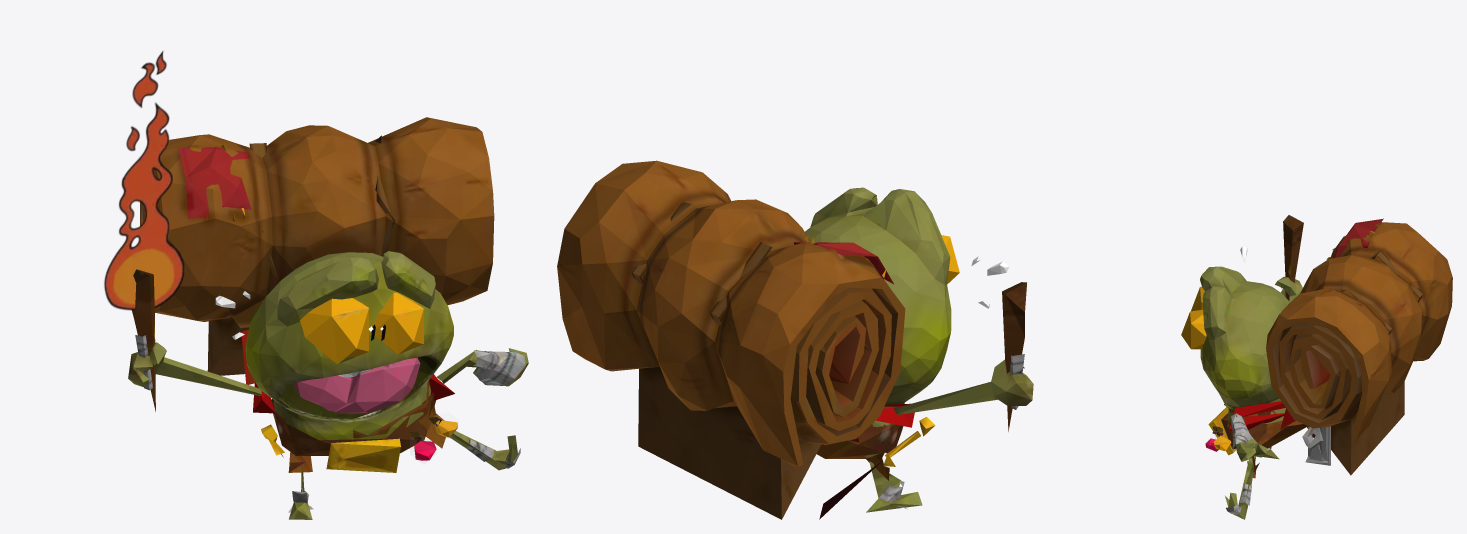
Rendered from grog.glb.
3 views of the same model, side by side, from view 1: azimuth 30°, elevation 25°; view 2: azimuth 150°, elevation 25°; view 3: azimuth 270°, elevation 25° (orthographic). The views are drawn at different scales.
Parts seen in each view (by area): view 1: Plane_20, Head_001_32, Flame_0, Tongue_001_34, Cube_003_45, Plane_009_18, Arm_R3_2_001_28, Cube_008_46, Cube_004_14, Belt_001_29, Cube_007_48, Circle_003_42 (+5 smaller); view 2: Plane_20, Head_001_32, Cube_004_14, Arm_R3_2_001_28, Circle_003_42, Head_002_33, Plane_002_16, Circle_002_41, Belt_001_29, Plane_009_18; view 3: Plane_20, Head_001_32, Cube_004_14, Circle_003_42, Torus_007_25, Head_002_33, Cube_008_46, Plane_009_18, Cube_002_44, Arm_L_27, Belt_001_29, Glove_L_31 (+4 smaller).
Boxes of the visible parts, box(x1,y1,x2,y2) form: Plane_20: box(140, 117, 494, 321); Head_001_32: box(245, 251, 453, 440); Flame_0: box(104, 50, 184, 310); Tongue_001_34: box(293, 357, 420, 413); Cube_003_45: box(300, 298, 368, 364); Plane_009_18: box(178, 147, 251, 218); Arm_R3_2_001_28: box(128, 342, 261, 395); Cube_008_46: box(371, 292, 423, 354); Cube_004_14: box(207, 300, 263, 375); Belt_001_29: box(271, 386, 436, 455); Cube_007_48: box(326, 438, 400, 472); Circle_003_42: box(132, 269, 155, 411); Plane_20: box(557, 160, 905, 466); Head_001_32: box(805, 187, 951, 426); Cube_004_14: box(638, 366, 821, 519); Arm_R3_2_001_28: box(893, 359, 1033, 414); Circle_003_42: box(1002, 282, 1026, 431); Head_002_33: box(816, 440, 889, 480); Plane_002_16: box(631, 202, 772, 325); Circle_002_41: box(866, 461, 922, 512); Belt_001_29: box(848, 423, 903, 453); Plane_009_18: box(793, 242, 894, 284); Plane_20: box(1266, 222, 1452, 439); Head_001_32: box(1200, 266, 1289, 427); Cube_004_14: box(1331, 381, 1404, 475); Circle_003_42: box(1283, 215, 1303, 300); Torus_007_25: box(1229, 401, 1285, 430); Head_002_33: box(1227, 410, 1307, 478); Cube_008_46: box(1181, 309, 1206, 349); Plane_009_18: box(1334, 218, 1383, 257); Cube_002_44: box(1225, 456, 1255, 519); Arm_L_27: box(1232, 414, 1267, 461); Belt_001_29: box(1221, 410, 1295, 448); Glove_L_31: box(1231, 413, 1254, 451).
Size of the model in its own units: 60.65 by 54.61 by 38.77.
Materials: 8 (4 with a texture image).
